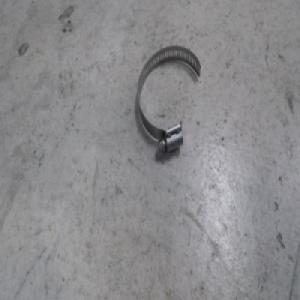AdjustableClamp: (136, 48, 202, 156)
